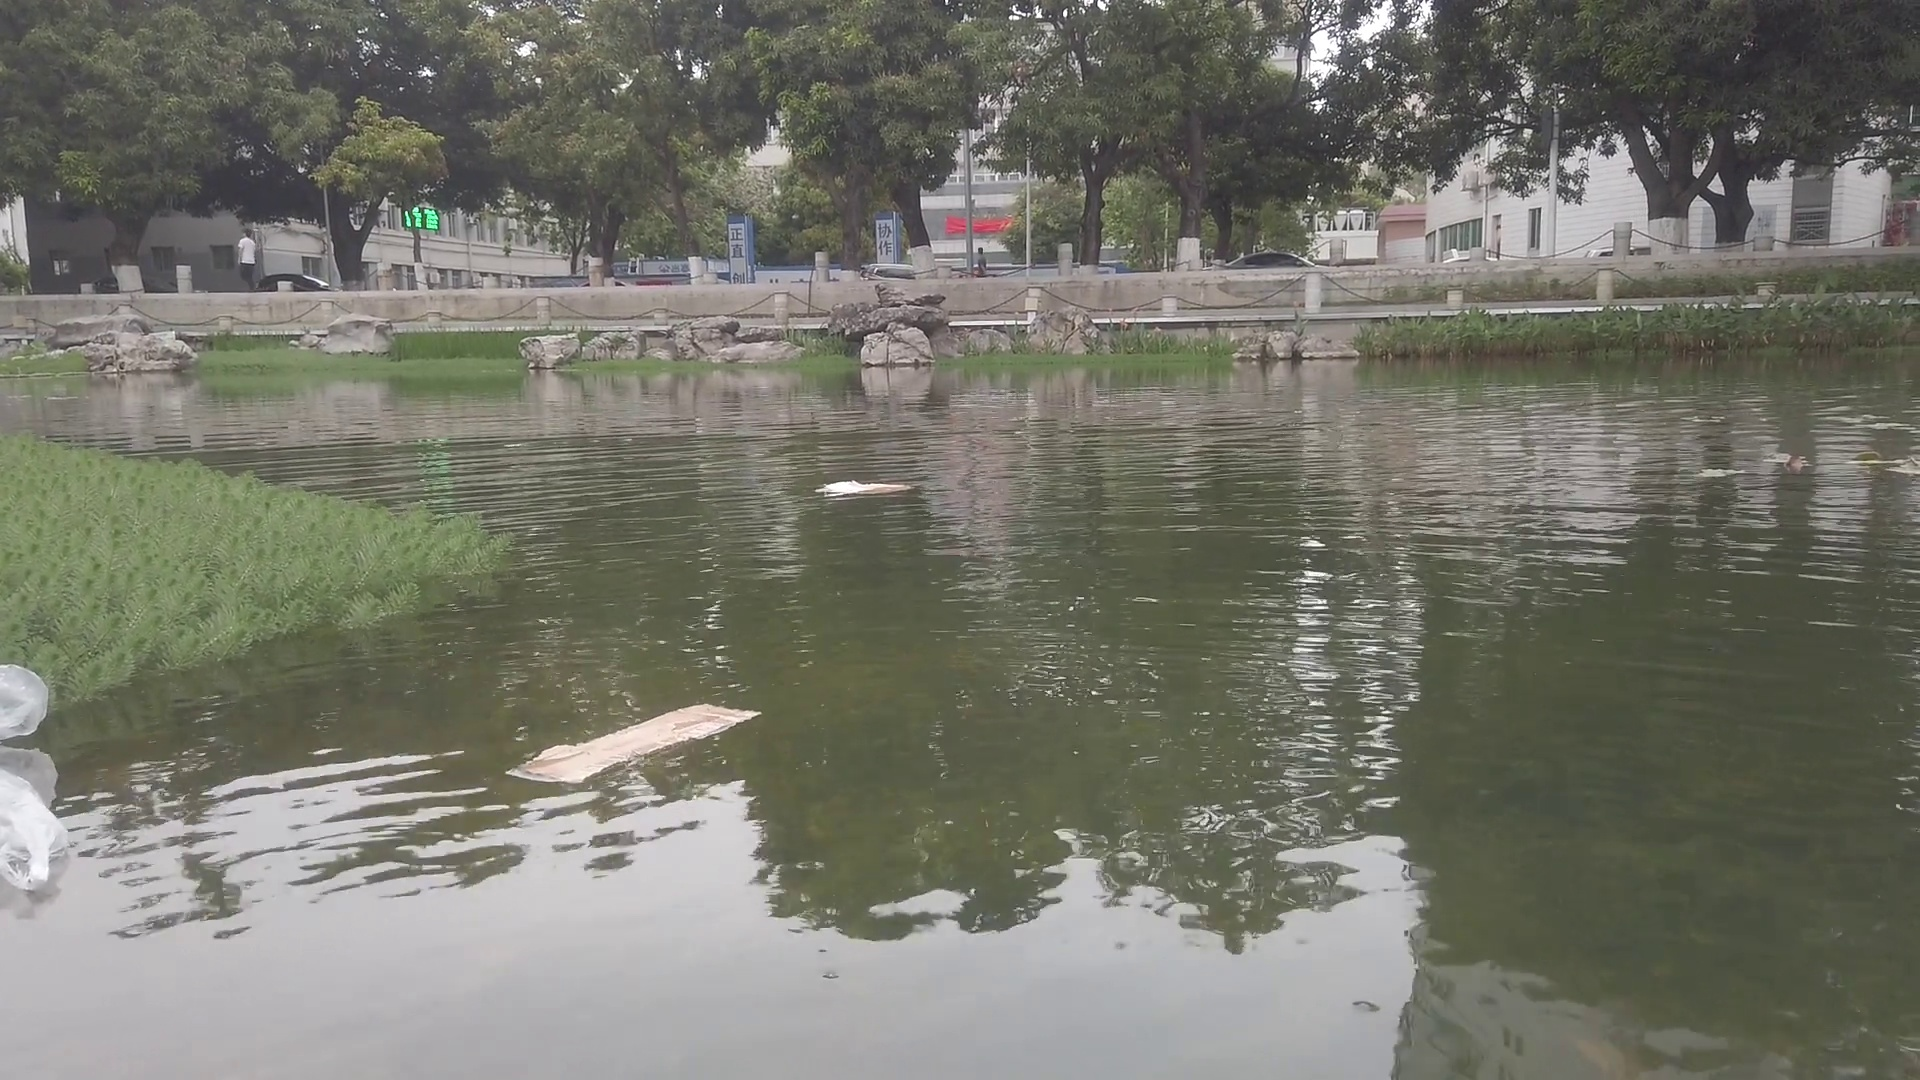paper: (531, 705, 770, 793), (833, 484, 901, 496)
plastic: (8, 753, 65, 881), (3, 663, 59, 746)
